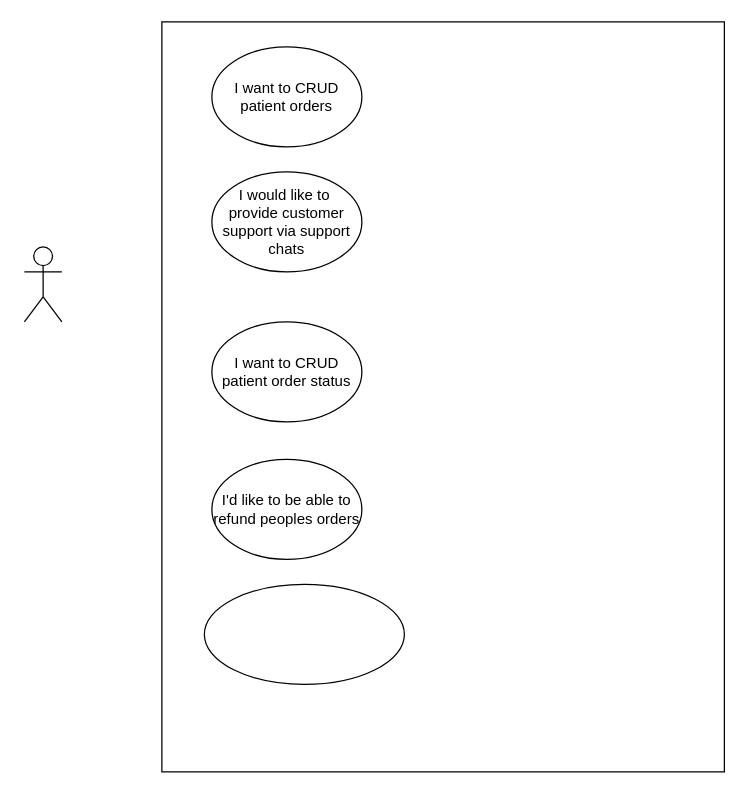
The diagram is 746 pixels wide and 794 high, and some of its shapes have lost their labels. Here are the shapes that lost their labels. From the top down, the centre of each, then its label:
At point 42,284: "Admin".
At point 303,633: "Would be nice to be able to search for specific patient orders".
